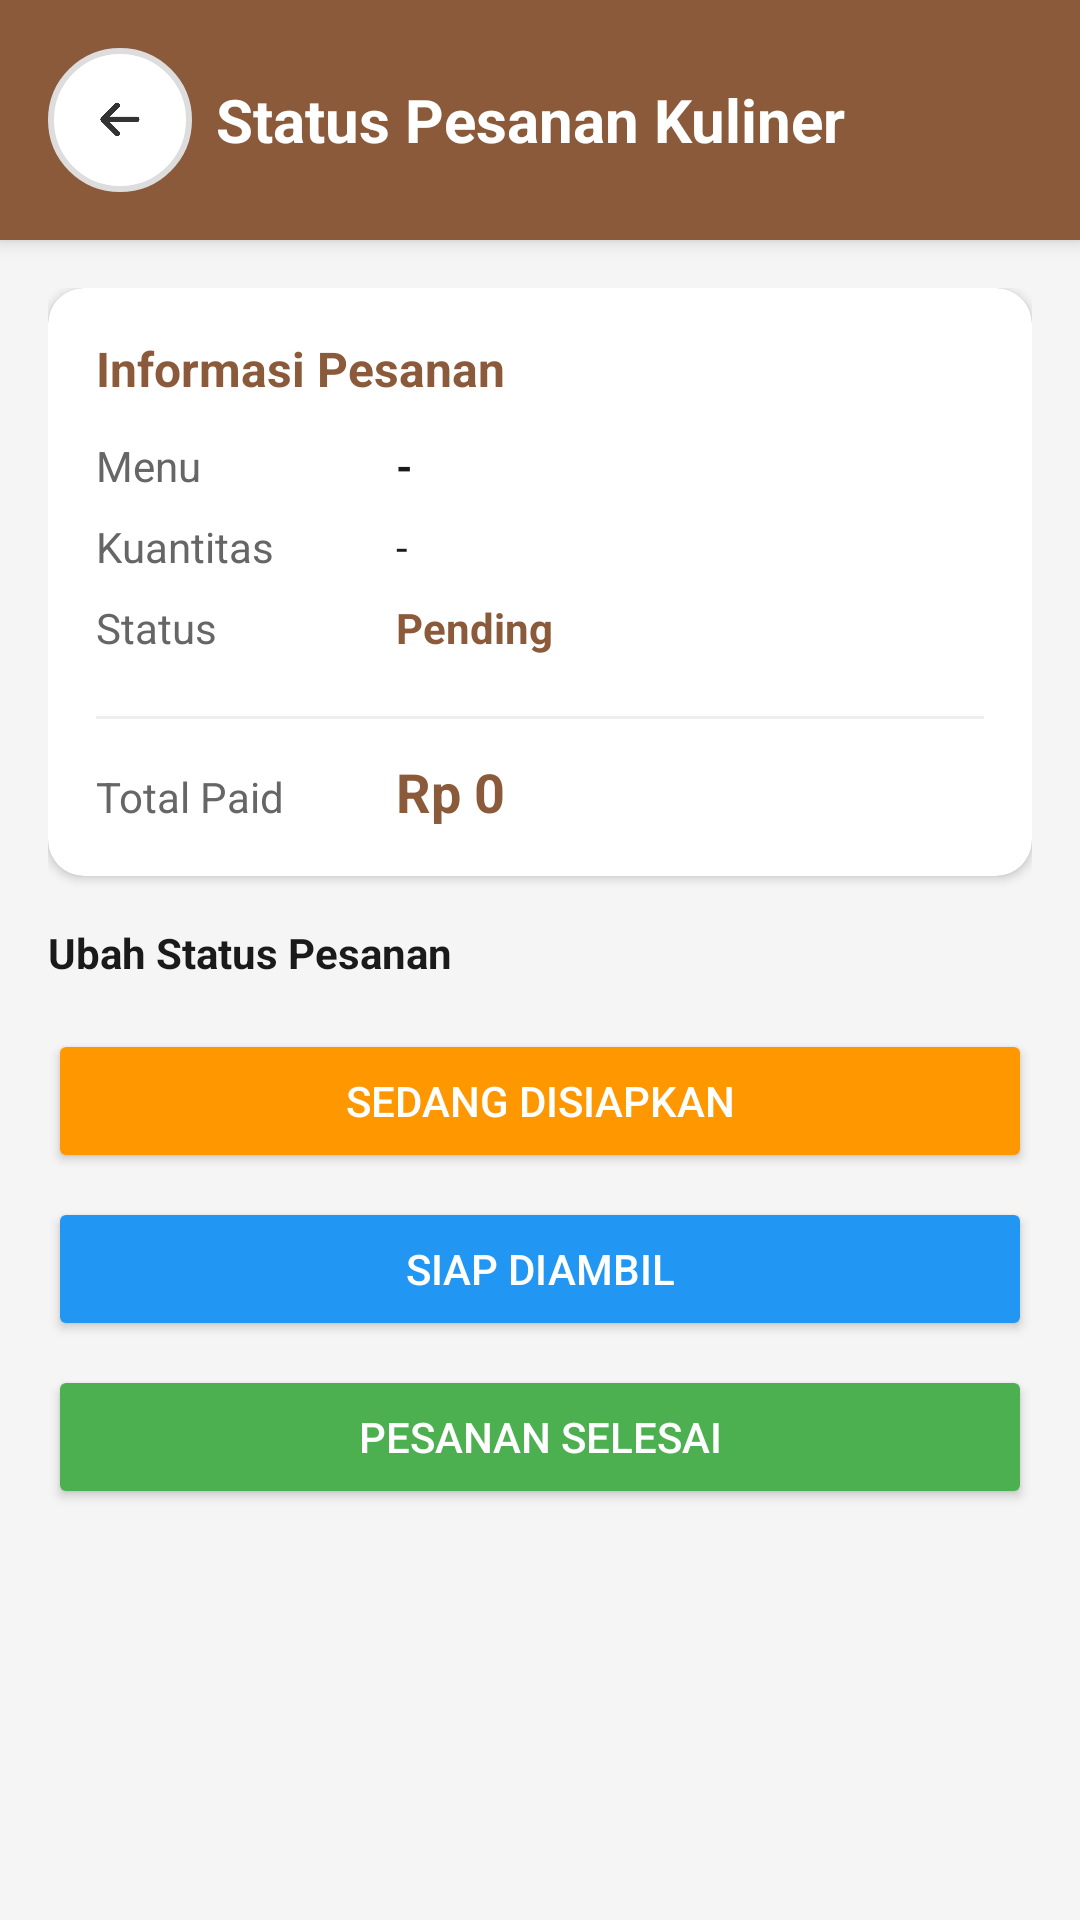

Where to tap for icons on this 1080×1920 app screen, as point (x, y):
back: point (120, 120)
